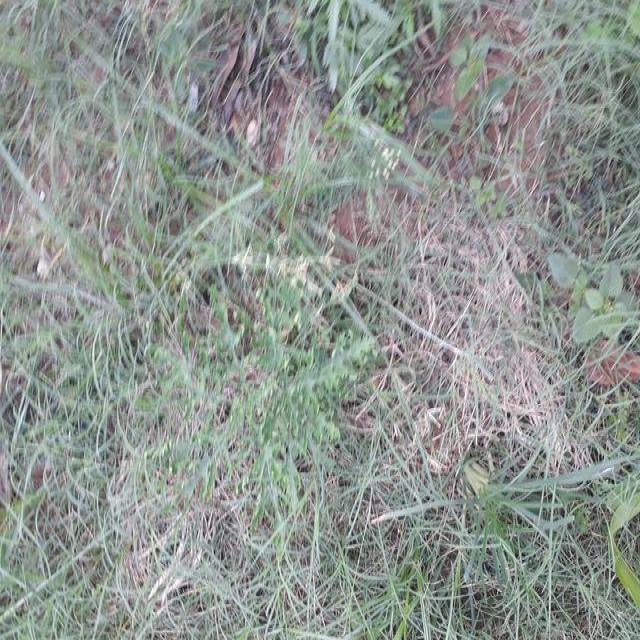weed: (79, 40, 474, 400), (154, 246, 350, 530), (498, 436, 640, 588), (548, 248, 640, 356)
